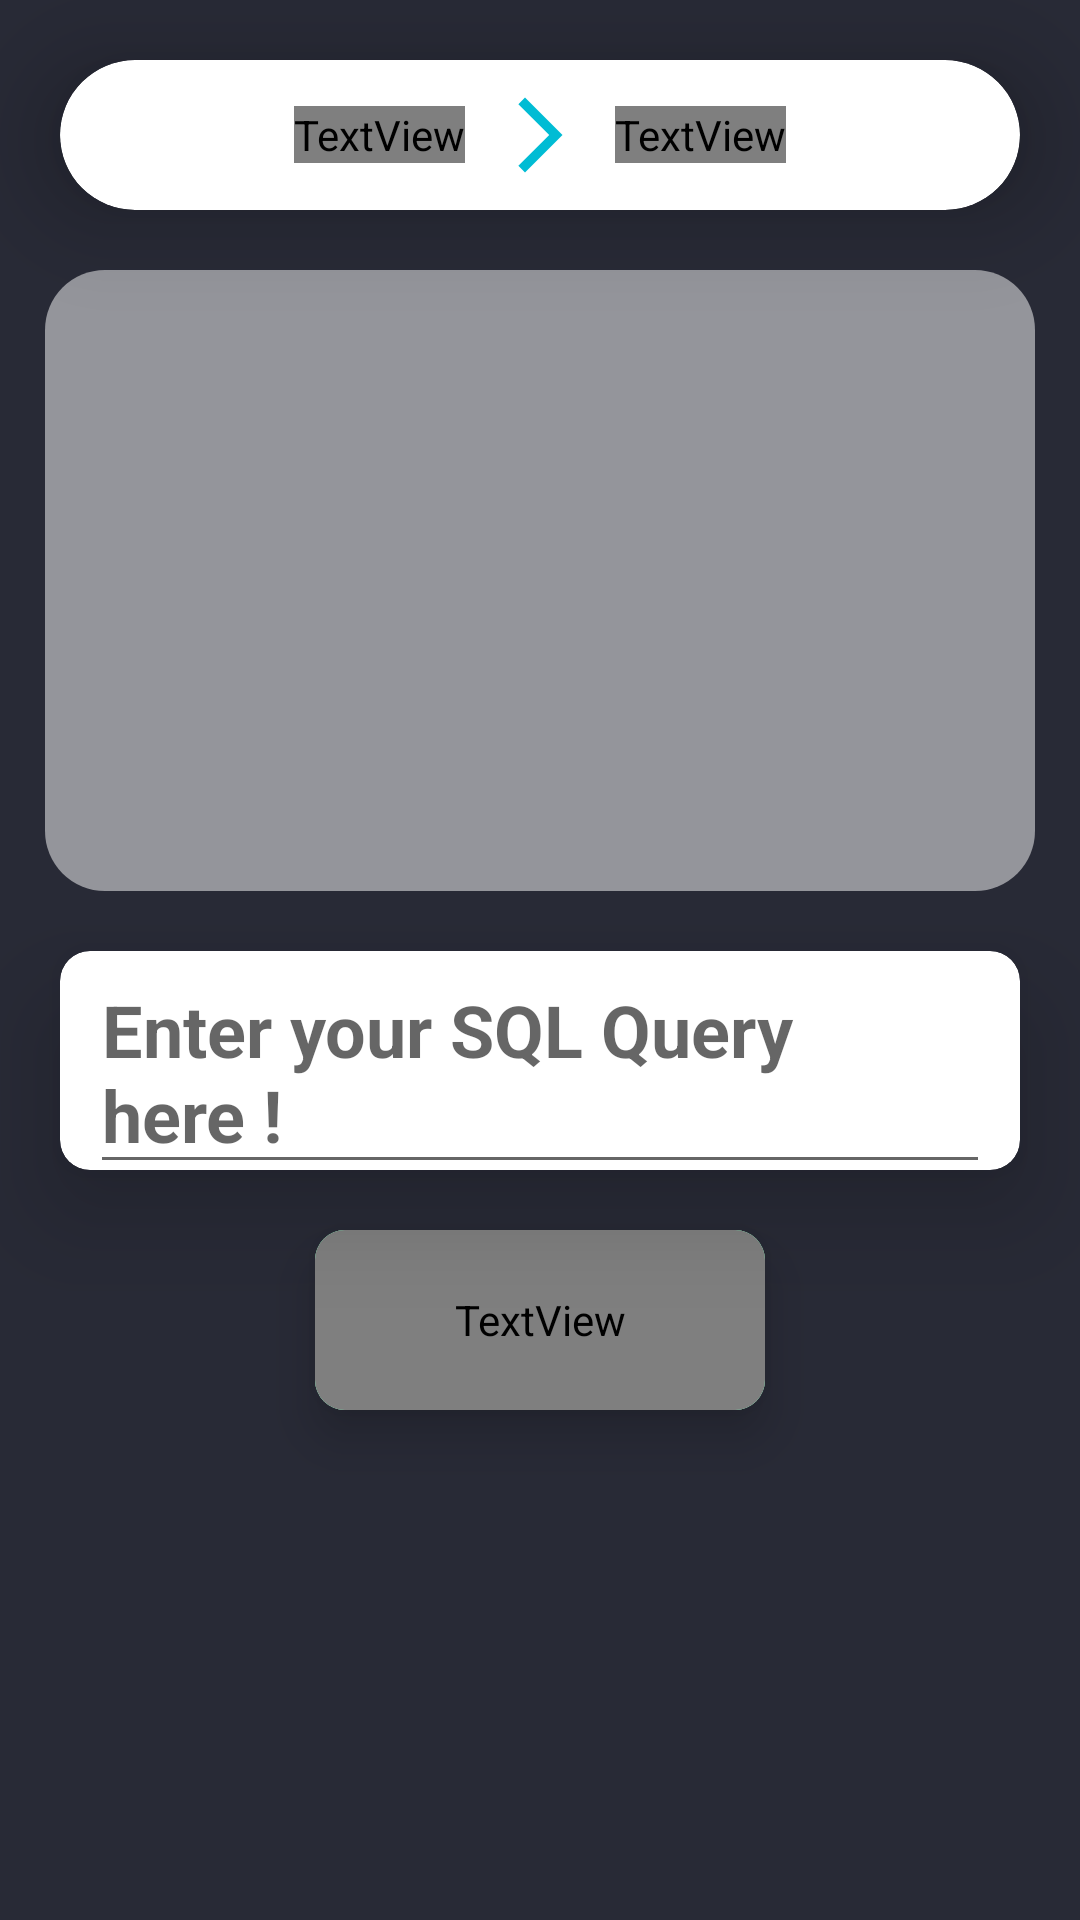

Screen size 1080 x 1920. Icon name, then its box in pixels as (x1, y1, x2, y2):
arrow forward: (518, 97, 563, 173)
